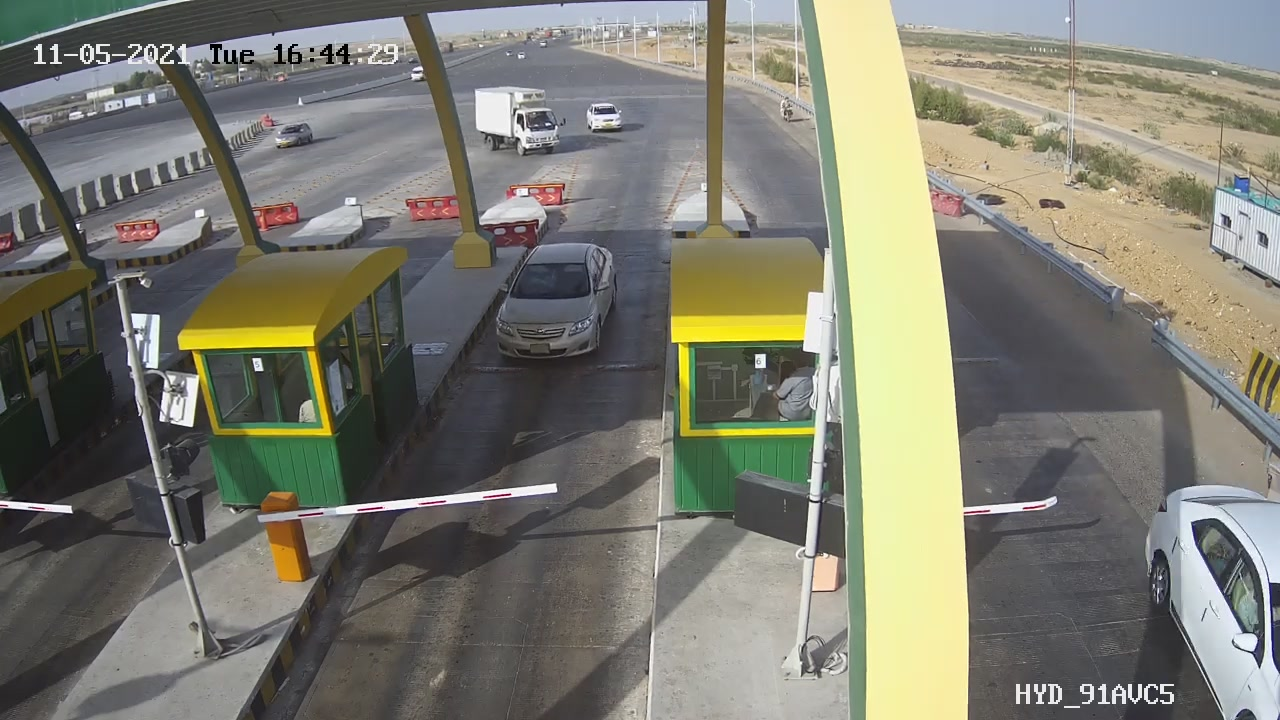F1: (465, 223, 641, 376)
